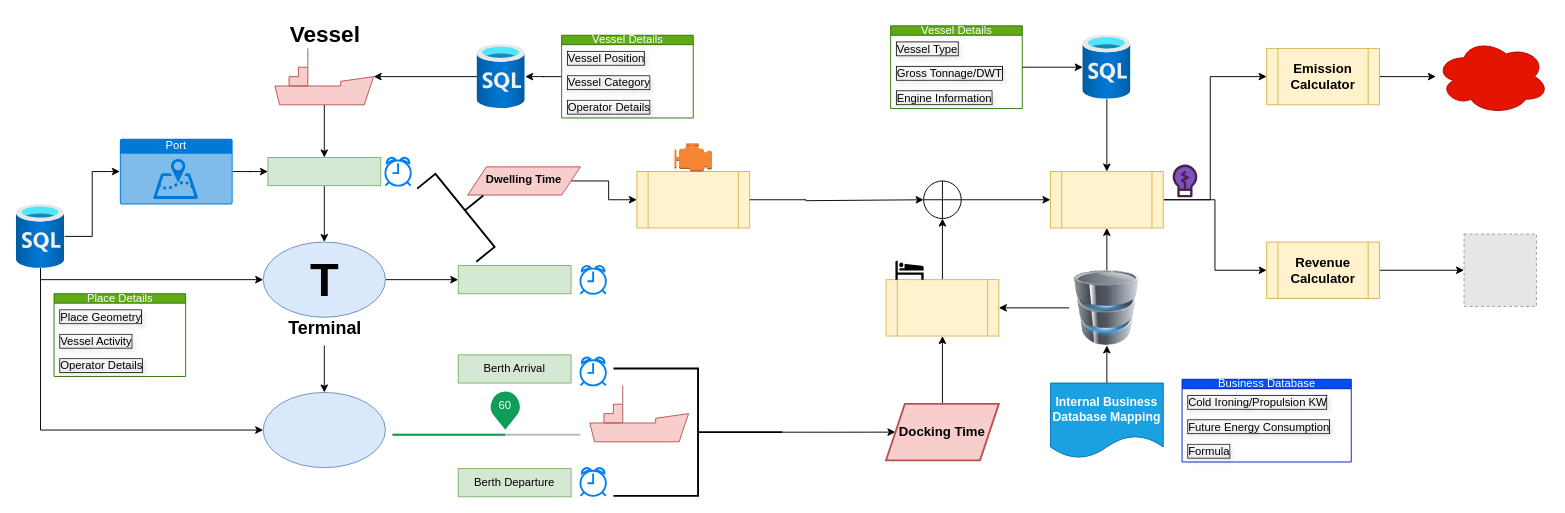
The diagram is 1565 pixels wide and 513 high, and some of its shapes have lost their labels. Grey dashed boxes stand in for pictures. The centre of each missing label's shape, as x and y in pixels:
"Berth" goes at pixel 323 430.
"CO2, SO2, NOx CH4" goes at pixel 1492 76.
"Cold Ironing" goes at pixel 942 307.
"Energy Consumption" goes at pixel 1106 199.
"Port Arrival" goes at pixel 324 171.
"Propulsion Consumption" goes at pixel 693 199.
"Terminal Arrival" goes at pixel 514 279.
